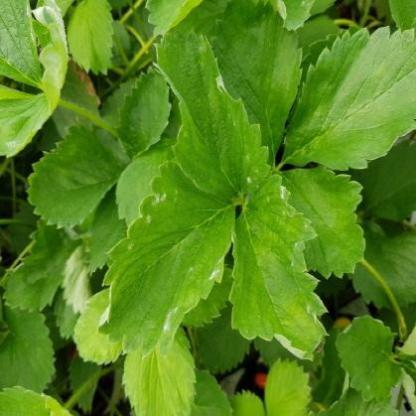Strawberry_Powdery_Mildew_Leaf: (95, 158, 236, 362), (152, 27, 272, 204), (227, 173, 331, 361), (0, 0, 68, 160)
